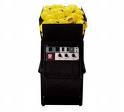tennis ball: (69, 13, 79, 22)
